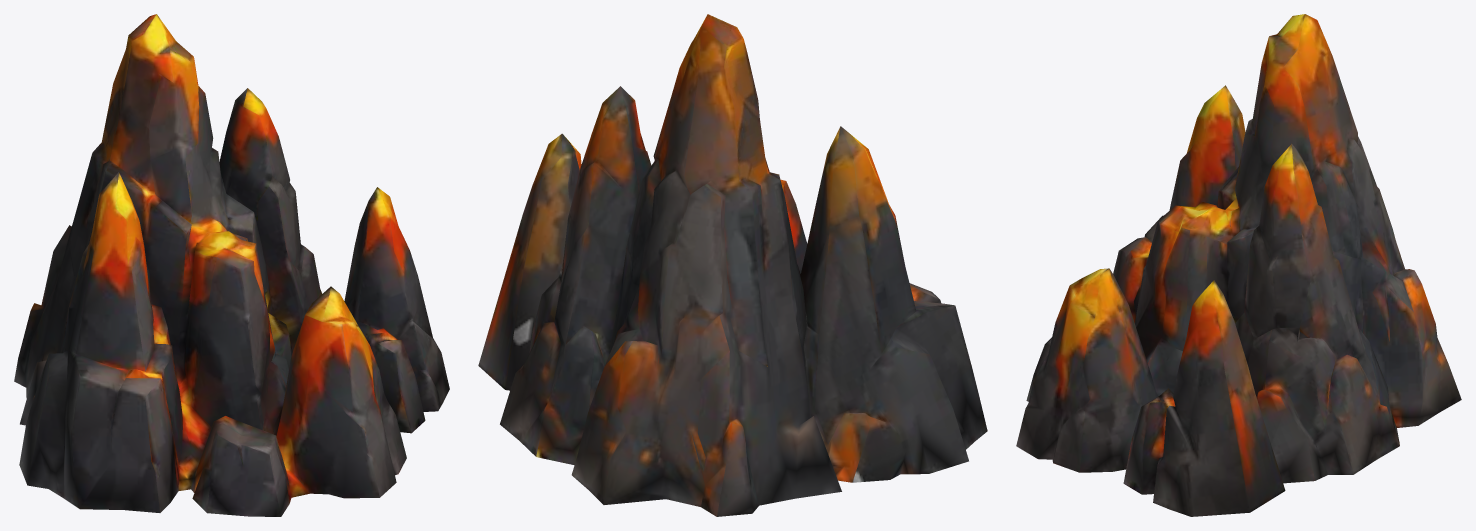
File: cliff_spires_lava.glb
The picture shows the model from 3 angles, left to right: view 1: azimuth 30°, elevation 25°; view 2: azimuth 150°, elevation 25°; view 3: azimuth 270°, elevation 25°; orthographic projection. The views are drawn at different scales.
Parts seen in each view (by area): view 1: BakeLow; view 2: BakeLow; view 3: BakeLow.
Boxes of the visible parts, x1=… form: BakeLow: x1=14, y1=14, x2=449, y2=516; BakeLow: x1=478, y1=14, x2=987, y2=516; BakeLow: x1=1016, y1=14, x2=1461, y2=516.
Size of the model in its own units: 0.8067 by 0.7342 by 0.7515.
Materials: 1 (1 with a texture image).
